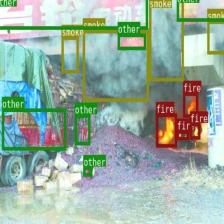fire: (156, 114, 176, 146), (183, 92, 198, 117), (189, 122, 200, 139), (176, 130, 189, 139)
smoke: (82, 30, 148, 100), (148, 0, 183, 80), (61, 36, 78, 72), (206, 20, 224, 53)
